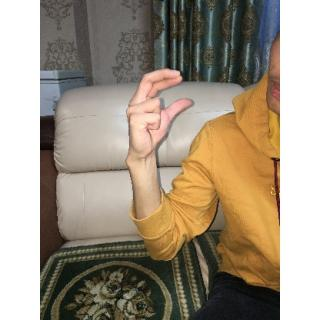DHELL: (120, 62, 197, 170)
